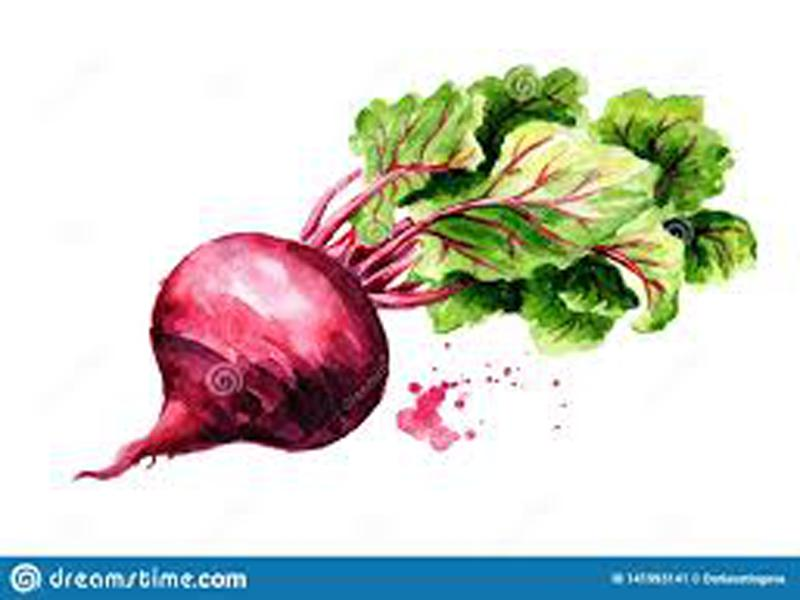Beet: (78, 64, 760, 481)
